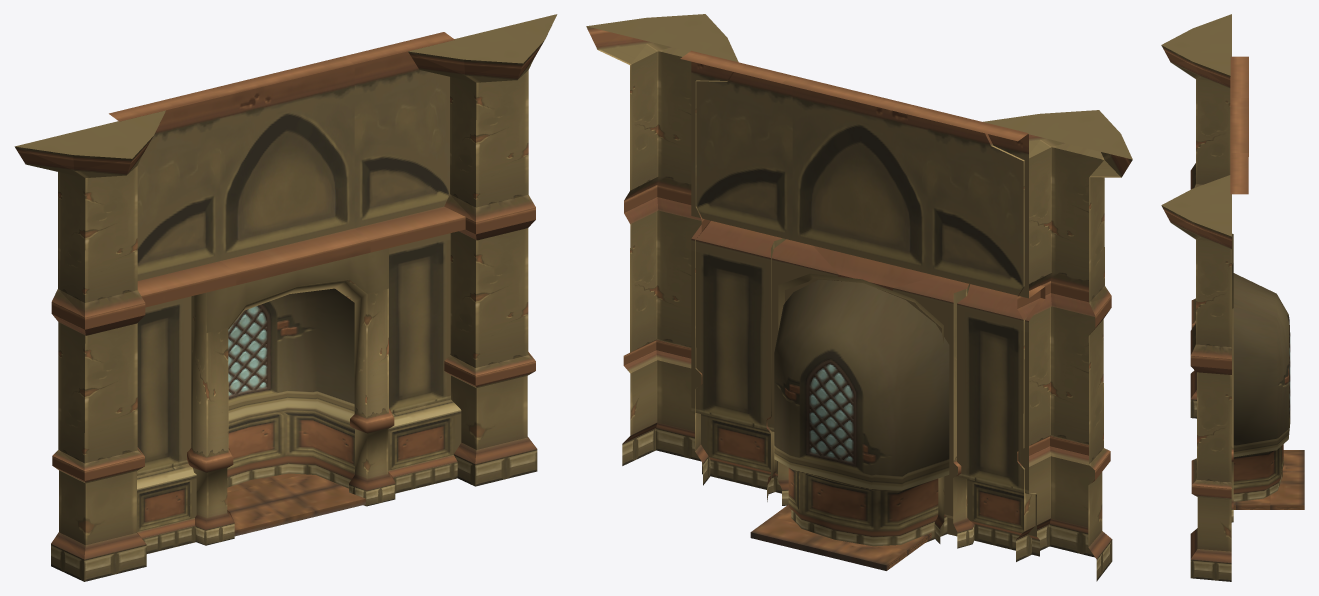
The model's file is wall big window.FBX.
3 renders of one model, left to right at view 1: azimuth 30°, elevation 25°; view 2: azimuth 150°, elevation 25°; view 3: azimuth 270°, elevation 25°, orthographic. The views are drawn at different scales.
Parts seen in each view (by area): view 1: wall big window; view 2: wall big window; view 3: wall big window.
Boxes of the visible parts, x1,y1,x2,y2 form: wall big window: (14, 14, 557, 581); wall big window: (586, 14, 1132, 581); wall big window: (1161, 14, 1304, 581).
Bounding box in the file's own units: 1257 × 948 × 342.
